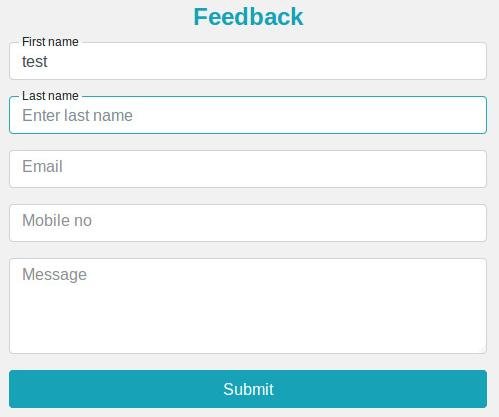button: (6, 367, 490, 410)
field: (8, 256, 490, 357), (8, 90, 490, 137), (8, 35, 491, 81), (6, 148, 488, 191), (8, 203, 490, 244)
